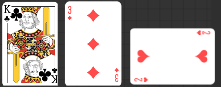2H: (133, 76, 149, 83), (195, 29, 211, 36)
3D: (66, 4, 73, 21)
